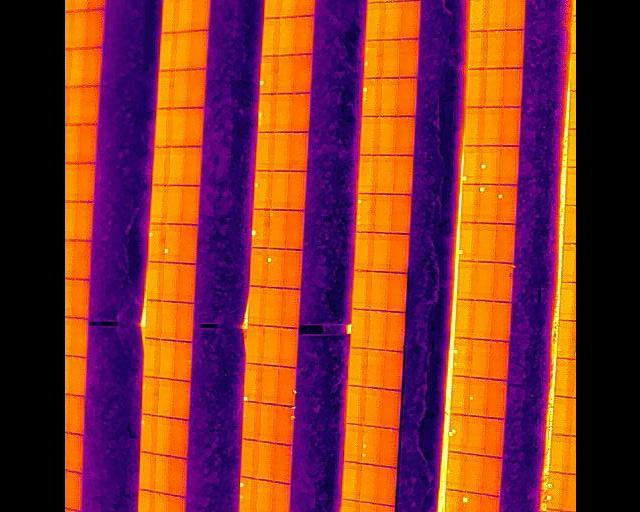Cell: (495, 185, 516, 224), (249, 210, 268, 249), (277, 367, 295, 406), (265, 249, 283, 288), (479, 145, 497, 184), (243, 363, 261, 402), (252, 171, 270, 209), (478, 184, 495, 223), (468, 378, 485, 417), (462, 146, 479, 185), (140, 414, 156, 453), (459, 223, 475, 261), (163, 224, 179, 262), (258, 57, 274, 94), (141, 376, 156, 415), (148, 224, 163, 262), (460, 491, 478, 512)
Cell-Multi: (546, 473, 566, 510), (362, 78, 380, 117), (361, 426, 379, 465), (453, 338, 471, 377), (355, 194, 373, 232), (275, 406, 293, 444), (364, 41, 381, 79), (237, 477, 255, 512), (258, 93, 274, 132), (449, 414, 465, 452)
No-Anomaly: (388, 233, 409, 273), (490, 302, 511, 341), (493, 263, 513, 303), (485, 379, 505, 419), (386, 273, 406, 312), (286, 171, 306, 210), (497, 146, 517, 185), (397, 78, 417, 117), (71, 202, 91, 241), (70, 240, 90, 279), (273, 443, 292, 484), (390, 195, 410, 233), (381, 389, 400, 429), (504, 30, 524, 68), (475, 224, 495, 262), (474, 261, 493, 301), (395, 117, 415, 155), (385, 312, 404, 351), (377, 466, 396, 505), (357, 155, 376, 194), (288, 132, 307, 171), (280, 289, 299, 328), (499, 107, 518, 146), (484, 69, 503, 108), (393, 156, 412, 195), (378, 428, 398, 465), (487, 342, 507, 379), (64, 394, 82, 435), (383, 351, 402, 389), (365, 3, 384, 41), (494, 224, 513, 262), (481, 107, 500, 145), (463, 454, 482, 492), (553, 397, 572, 435), (550, 434, 569, 472), (179, 225, 198, 263), (77, 125, 96, 163), (261, 326, 279, 366), (64, 432, 82, 472), (169, 457, 186, 499), (482, 419, 501, 456), (556, 322, 575, 359), (556, 359, 575, 396), (384, 2, 402, 41), (342, 462, 360, 501), (292, 55, 310, 94), (283, 211, 301, 250), (282, 250, 300, 289), (279, 328, 297, 367), (278, 17, 296, 56), (263, 288, 281, 327), (260, 366, 278, 405), (503, 69, 521, 108), (481, 456, 499, 495), (472, 301, 490, 340), (466, 69, 484, 108), (255, 132, 273, 171), (247, 286, 265, 325), (184, 147, 202, 186), (182, 186, 200, 225), (176, 302, 194, 341), (169, 418, 187, 457), (84, 9, 102, 48), (82, 48, 100, 87), (69, 317, 86, 358), (68, 355, 85, 396), (466, 415, 483, 456), (139, 450, 156, 491), (381, 40, 399, 78), (379, 78, 397, 116), (365, 350, 383, 388), (348, 348, 366, 386), (291, 93, 309, 131), (273, 56, 291, 94), (258, 404, 276, 442), (485, 30, 503, 68), (471, 340, 489, 378), (454, 300, 472, 338), (399, 40, 417, 78), (255, 442, 273, 480), (248, 248, 266, 286), (185, 109, 203, 147), (74, 163, 92, 201), (369, 272, 386, 312), (353, 232, 370, 272), (296, 16, 313, 56), (467, 31, 485, 68), (377, 116, 394, 155), (376, 155, 393, 194), (374, 194, 391, 233), (368, 311, 385, 350), (360, 116, 377, 155), (360, 465, 377, 504), (347, 386, 364, 425), (273, 94, 290, 133), (261, 18, 278, 57), (65, 48, 82, 87), (178, 263, 195, 302), (165, 186, 182, 225), (81, 87, 98, 126), (71, 279, 88, 318), (364, 388, 381, 426), (352, 271, 369, 309), (344, 425, 361, 463), (67, 11, 84, 49), (464, 108, 481, 146), (460, 185, 477, 223), (457, 262, 474, 300), (402, 1, 419, 39), (158, 34, 175, 72), (64, 469, 79, 512), (452, 376, 468, 416), (162, 262, 178, 302), (160, 301, 176, 341), (154, 454, 170, 494), (559, 283, 576, 320), (241, 403, 258, 440), (371, 233, 387, 272), (351, 310, 367, 349), (64, 86, 80, 125), (246, 325, 262, 364), (190, 31, 206, 70), (187, 70, 203, 109), (174, 32, 190, 71), (174, 341, 190, 380), (168, 147, 184, 186), (157, 378, 173, 417), (151, 147, 167, 186), (149, 186, 165, 225), (504, 0, 524, 31), (240, 439, 256, 477), (173, 381, 189, 419), (155, 109, 171, 147), (146, 262, 162, 300), (156, 72, 172, 109), (273, 132, 288, 171), (271, 171, 286, 210), (448, 452, 463, 491), (159, 341, 174, 380), (143, 338, 158, 377), (469, 0, 487, 32), (254, 480, 272, 512), (172, 71, 187, 109), (171, 109, 186, 147), (146, 299, 160, 339), (269, 210, 283, 249), (156, 417, 170, 456), (161, 0, 177, 34), (487, 0, 504, 31), (192, 0, 209, 31), (272, 484, 290, 512), (177, 0, 192, 32), (444, 490, 460, 512), (137, 490, 153, 512), (263, 0, 282, 18), (478, 494, 497, 512), (152, 493, 168, 512), (282, 0, 299, 17), (168, 496, 185, 512), (299, 0, 315, 16), (339, 500, 358, 512), (69, 0, 87, 10), (357, 502, 374, 512), (87, 0, 104, 10)
